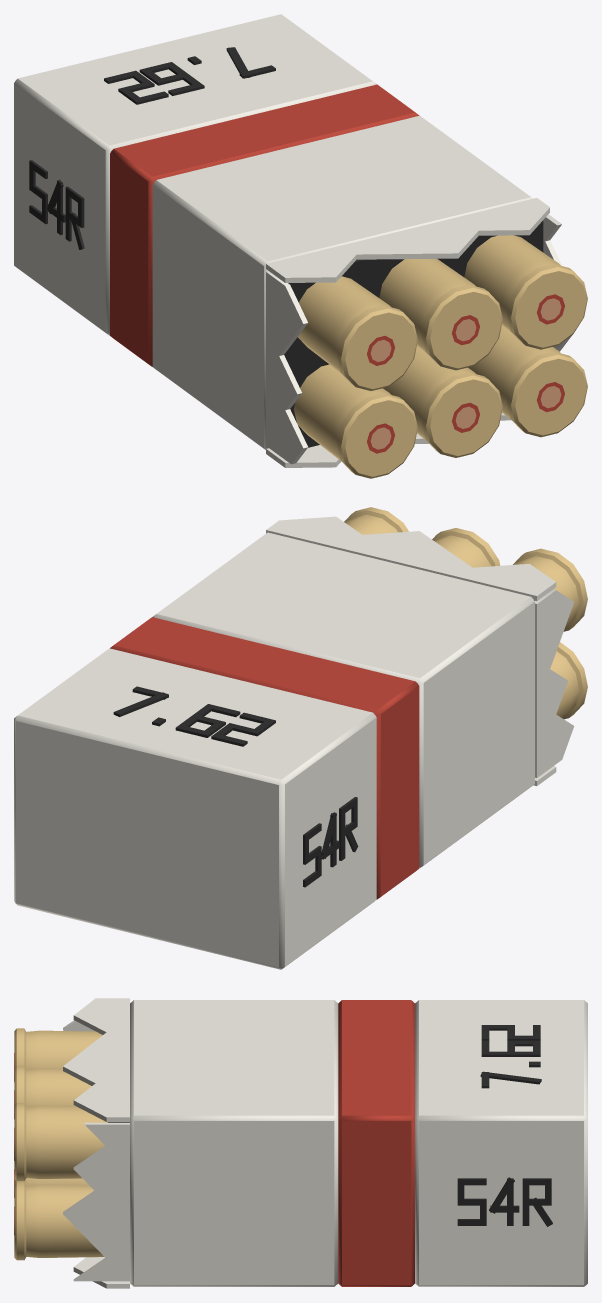
Rendered from ammo_762r.glb.
3 views of the same model, one above another, from view 1: azimuth 30°, elevation 25°; view 2: azimuth 150°, elevation 25°; view 3: azimuth 270°, elevation 25° (orthographic). The views are drawn at different scales.
Visible parts, largest first — view 1: body; view 2: body; view 3: body.
Boxes of the visible parts, x1,y1,x2,y2 form: body: [14, 14, 587, 478]; body: [14, 507, 587, 969]; body: [14, 998, 587, 1288].
Size of the model in its own units: 0.0448 by 0.0299 by 0.0896.
